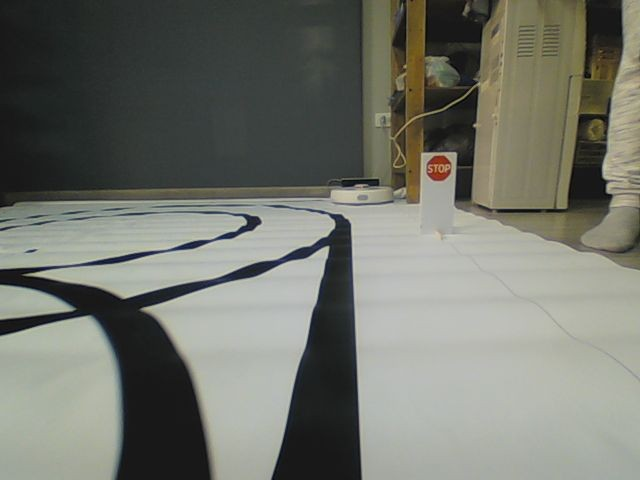Stop: (425, 153, 454, 183)
